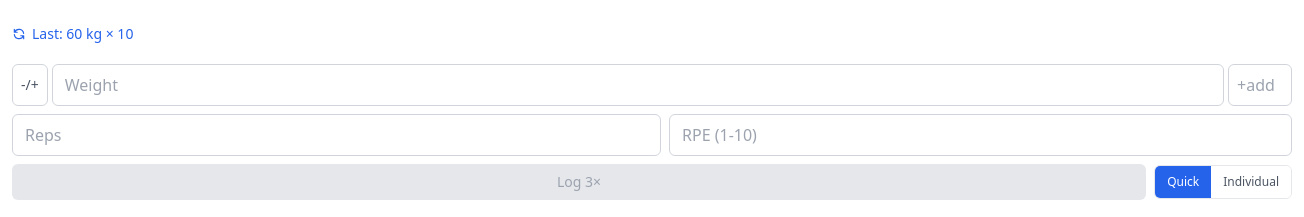
it: SetLogger › preset from last › fills weight and reps on preset click (single weight)
Click the button with aria-label "Preset from last session": (49, 34) [12,12,1292,56]
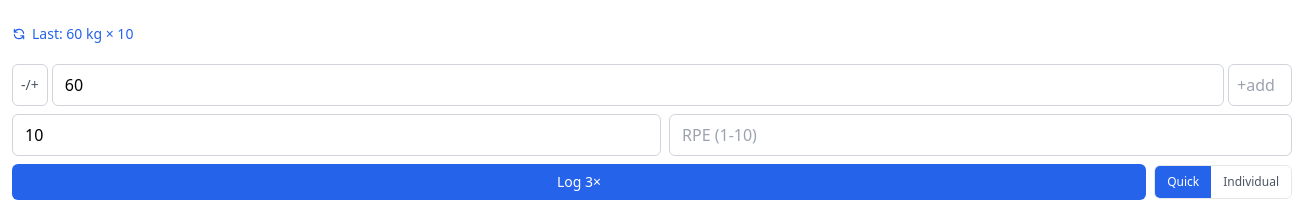
Result: the field with placeholder "Weight" holds "60" at [52,64,1224,106]
Result: the number field with placeholder "Reps" holds "10" at [12,114,661,156]
